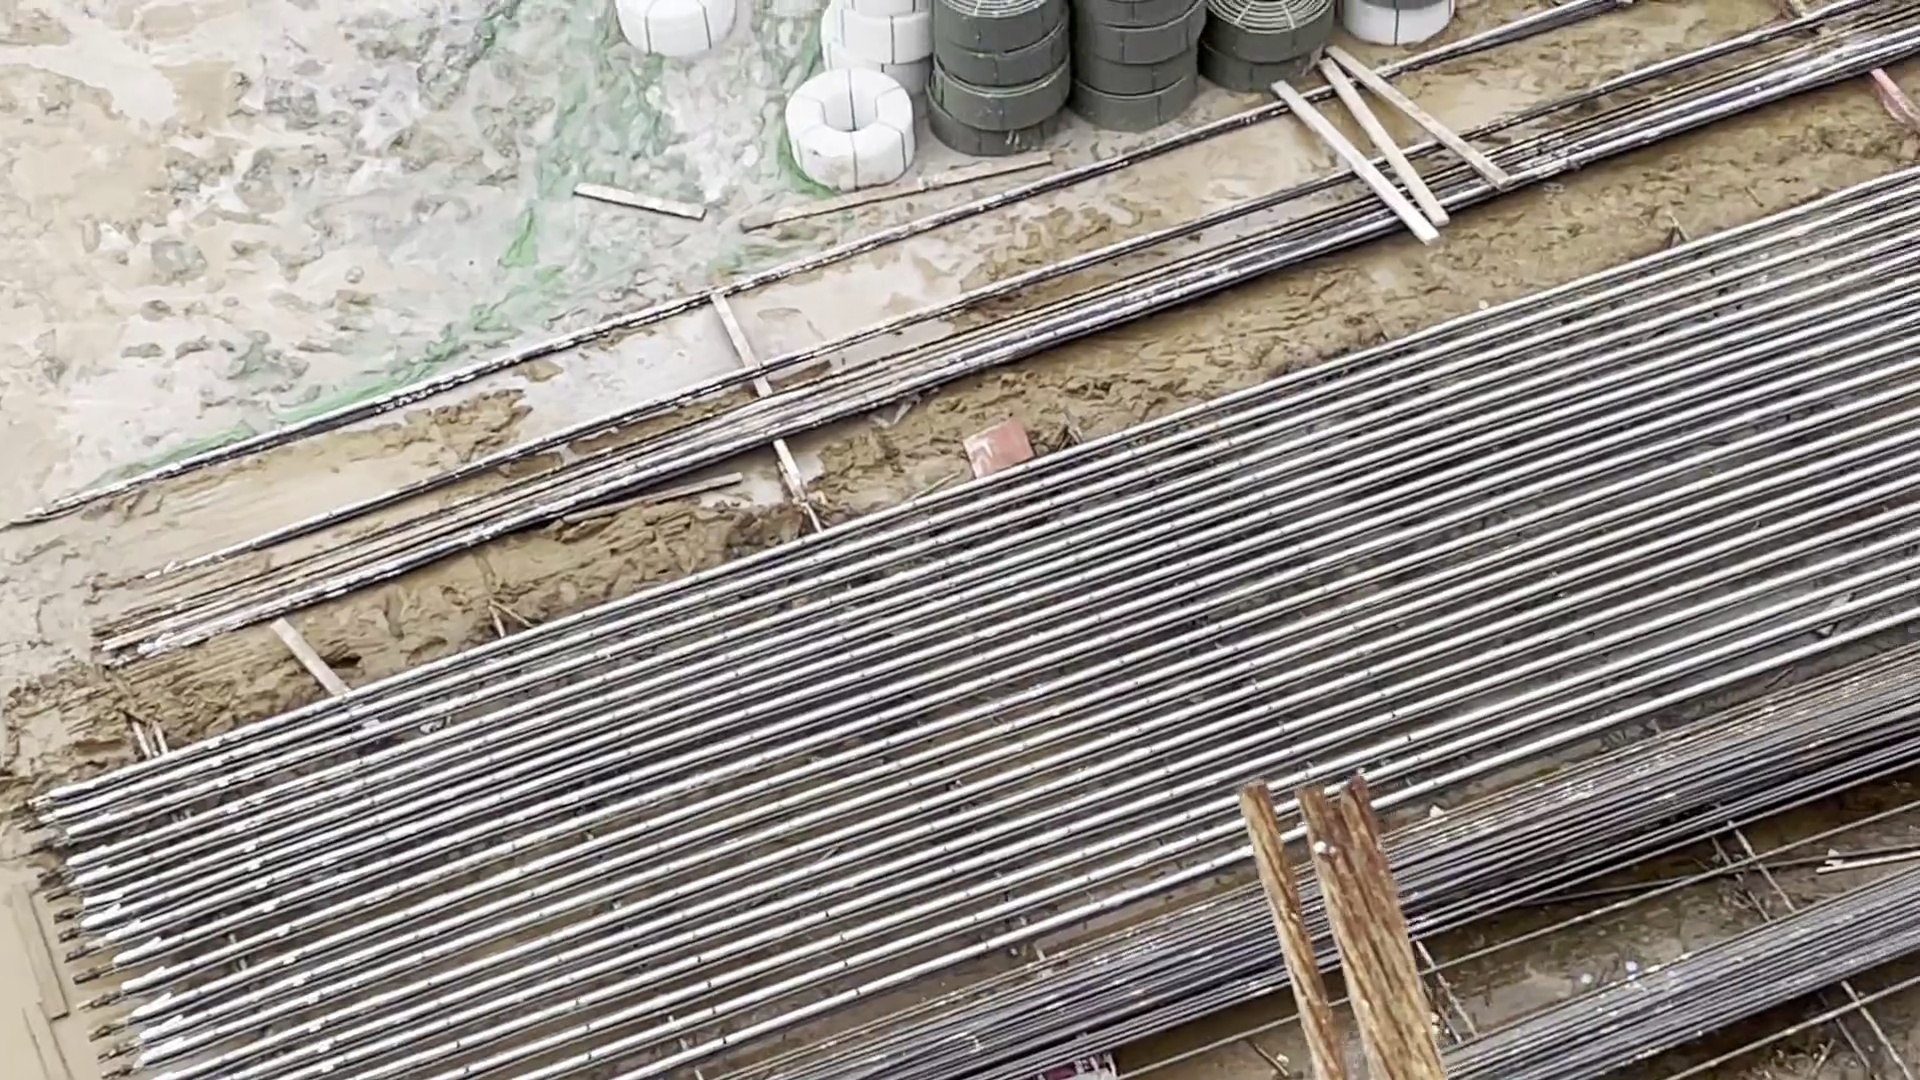rebar: (893, 716, 1920, 1080)
